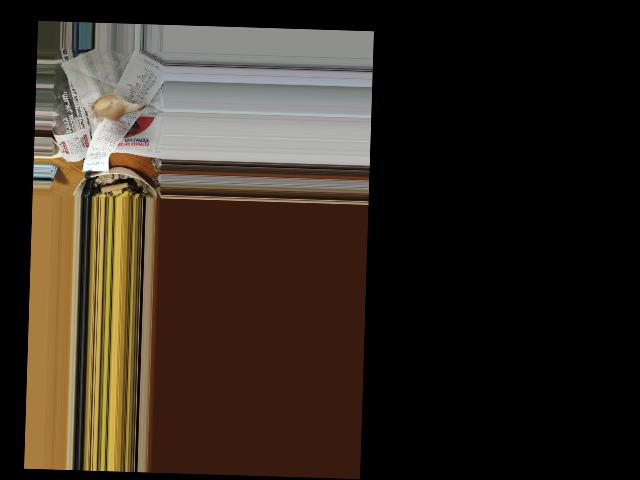onion: (94, 94, 130, 121)
